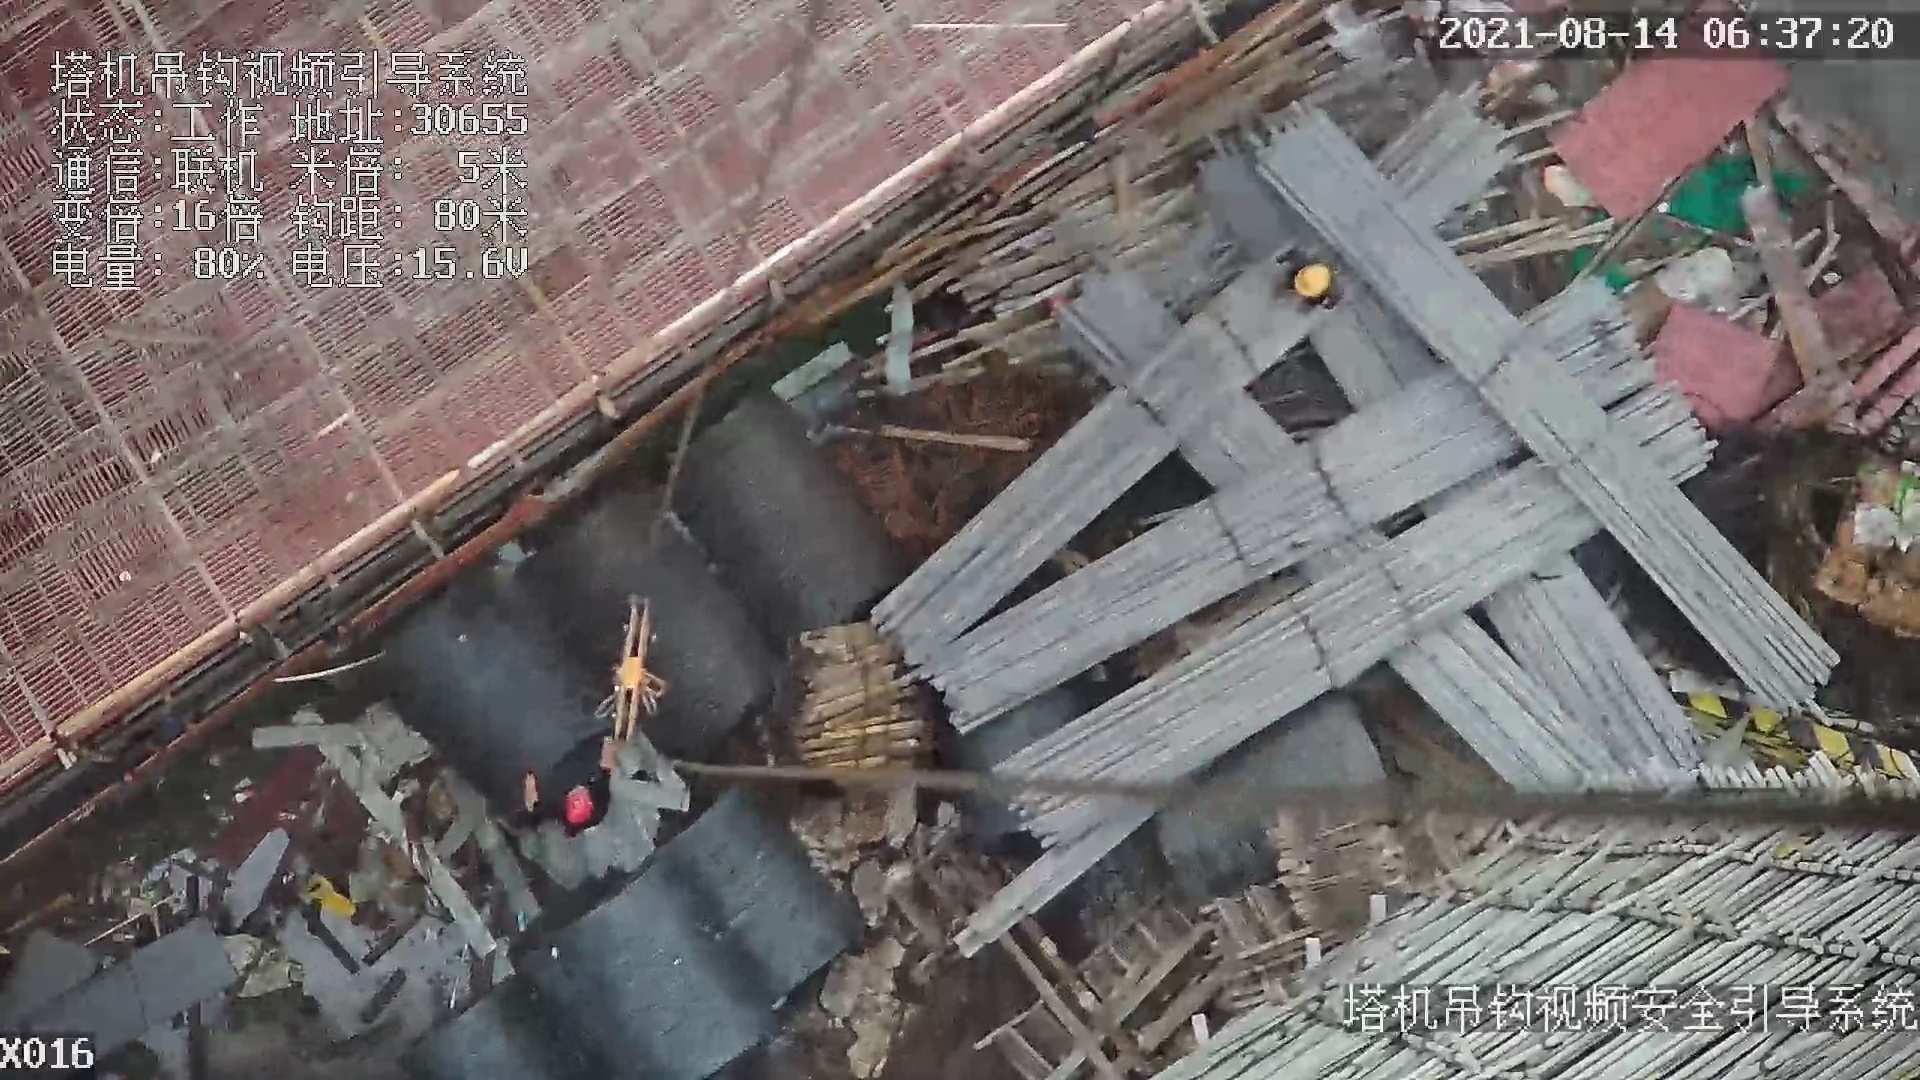helmet: (1291, 260, 1331, 304), (562, 794, 597, 825)
hook: (590, 595, 667, 746)
person: (512, 767, 617, 835), (1270, 240, 1344, 318)
